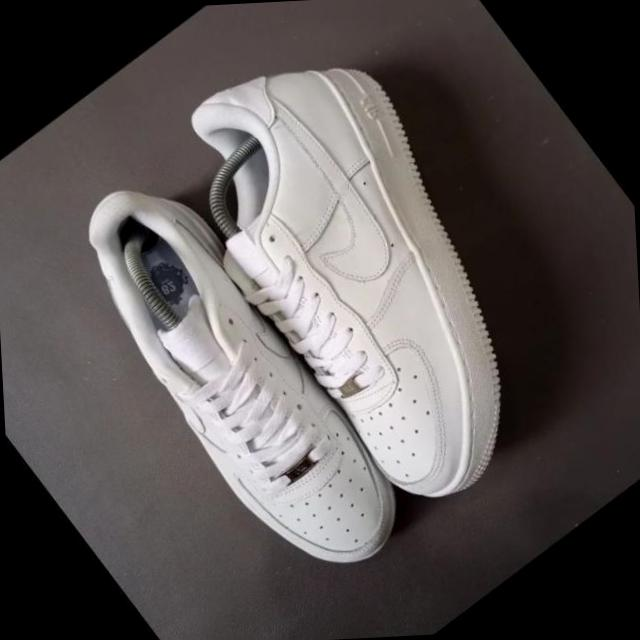nike_fake_airforce: (125, 0, 622, 550), (37, 141, 440, 622)
